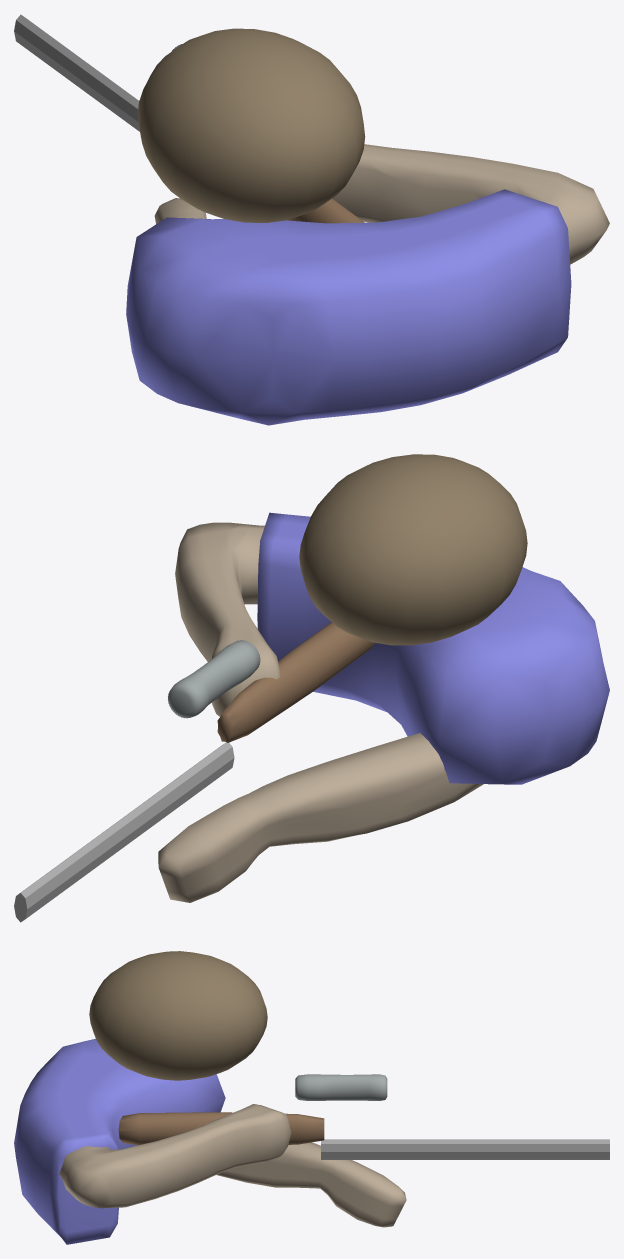
The model's file is Blue_hunter_animated.fbx.
3 views of the same model, one above another, from view 1: azimuth 30°, elevation 25°; view 2: azimuth 150°, elevation 25°; view 3: azimuth 270°, elevation 25° (orthographic). The views are drawn at different scales.
Parts seen in each view (by area): view 1: polySurface7; view 2: polySurface7; view 3: polySurface7.
Part boxes in pixels (x1,y1,x2,y2): polySurface7: (14, 14, 609, 425); polySurface7: (14, 454, 609, 922); polySurface7: (14, 951, 609, 1244).
Bounding box in the file's own units: 9.99 × 7.53 × 16.99.
